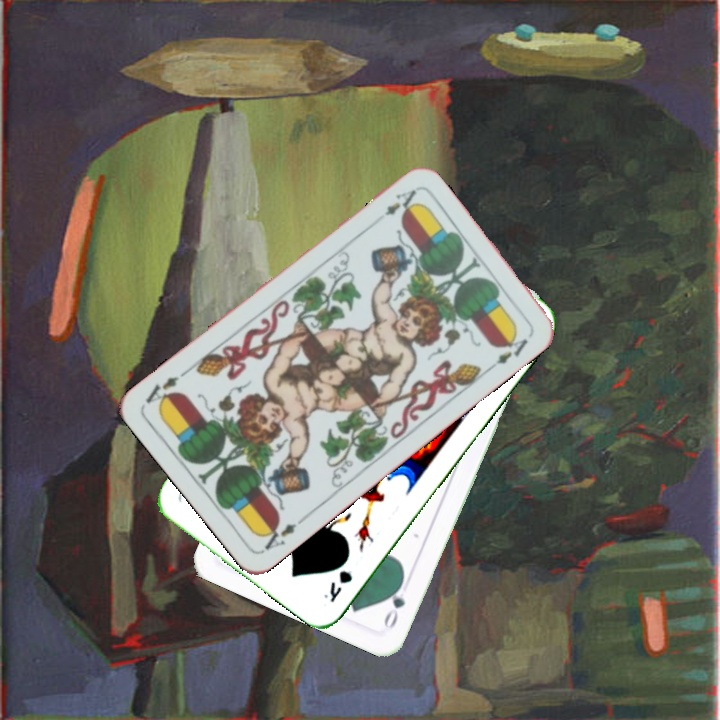EA: (255, 511, 309, 553), (380, 185, 419, 219)
GK: (319, 566, 356, 605)
GO: (379, 574, 408, 631)
